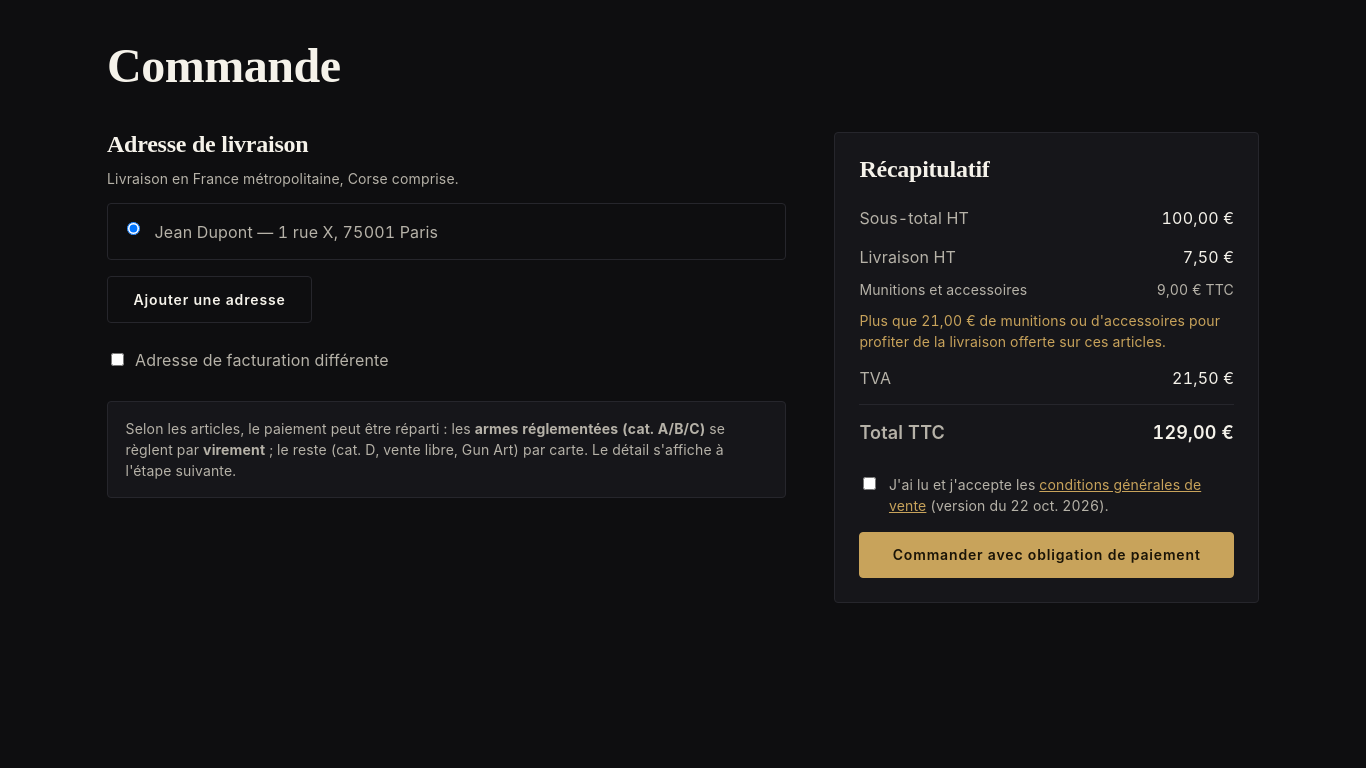
Test case: commande/index.vue — CGV acceptance (story 12.1) › asks to reload when the CGV changed after the page was opened
Click the checkbox named "terms": {"x": 870, "y": 483} [863,477,876,490]
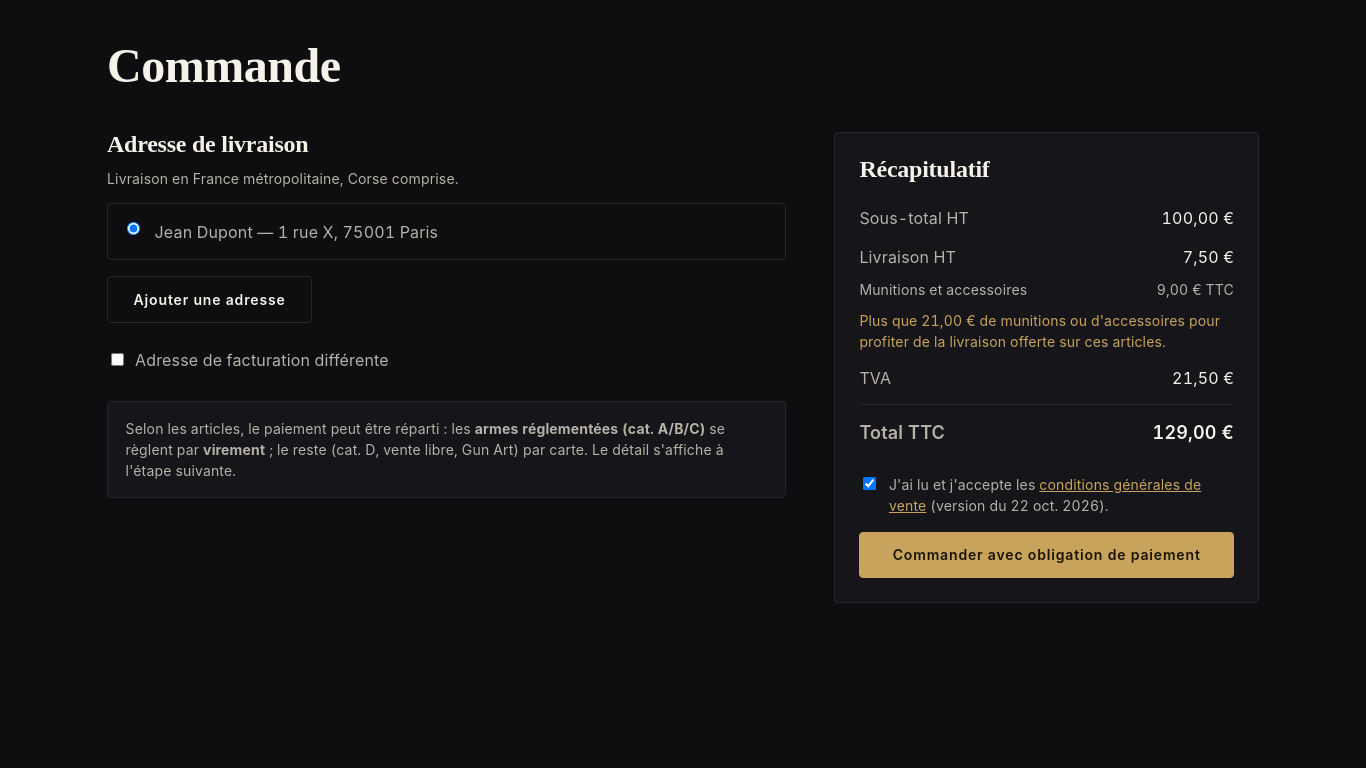
Click the button with class "summary__cta": {"x": 1047, "y": 555} [859,532,1234,578]
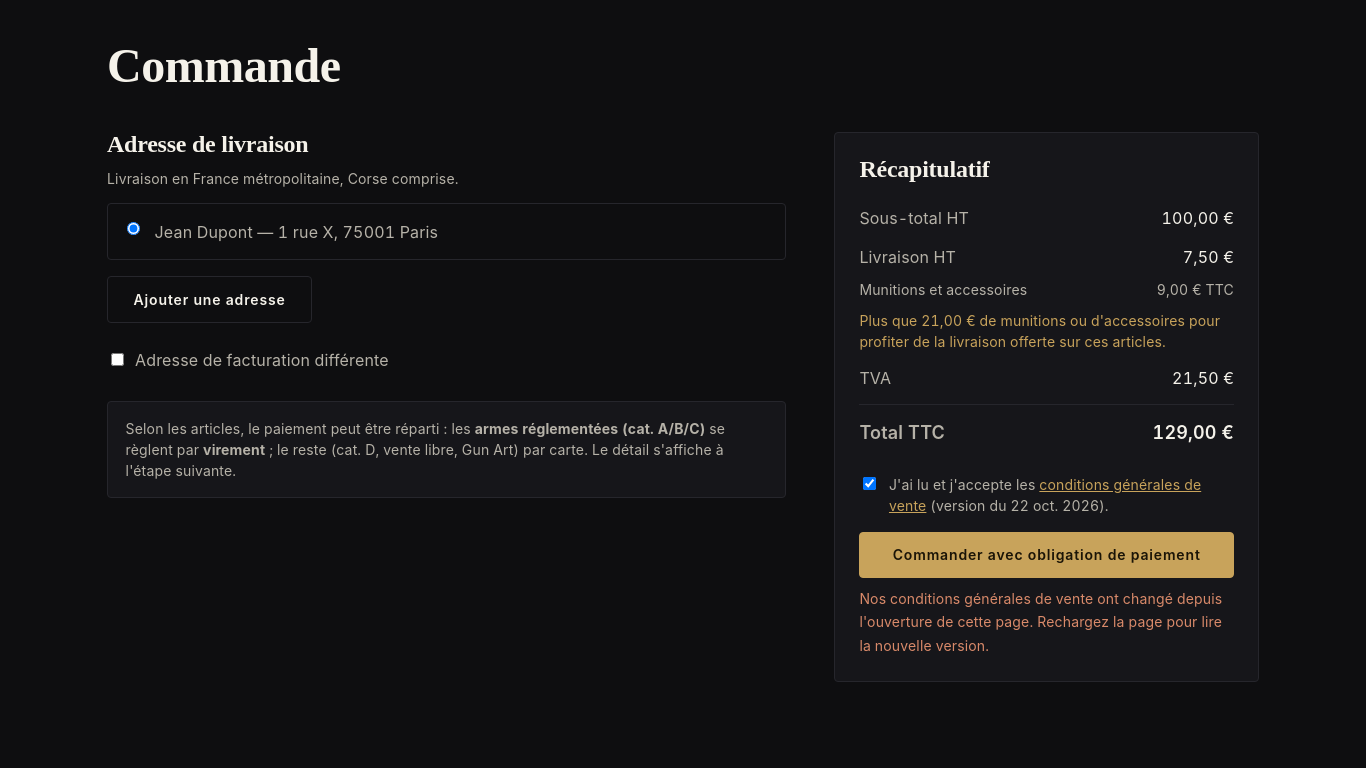
Now the text "Rechargez la page pour lire la nouvelle version." is shown, box [859,590,1222,654]
